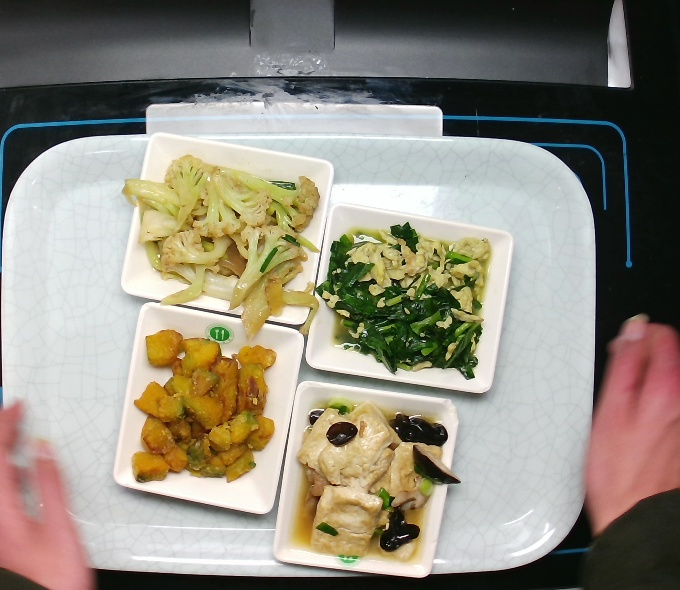wcq-DanHuangNanGua: (119, 321, 278, 491)
wcq-JiaChangDouFu: (285, 396, 456, 558)
wcq-JiuCaiJiDan: (318, 218, 497, 381)
wcq-QiuCai: (111, 149, 328, 337)
